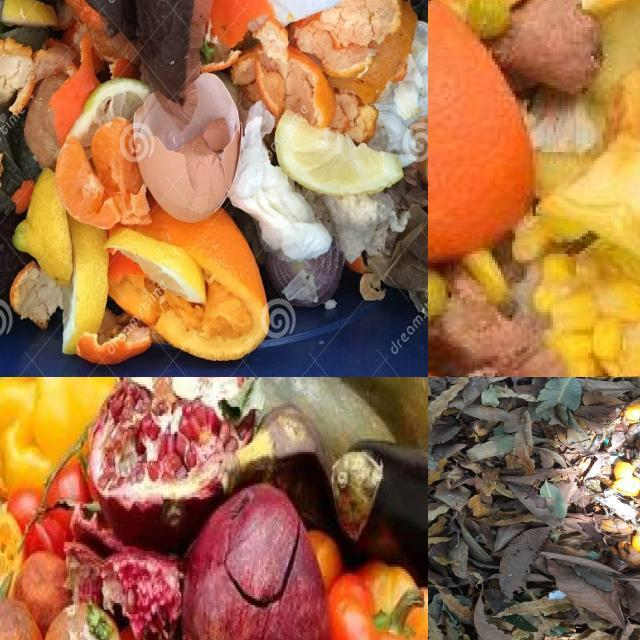Garbage: (0, 377, 428, 640), (428, 0, 640, 377), (428, 377, 640, 640)
Plastic_wraper: (547, 591, 567, 599)
